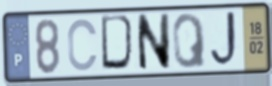8: (33, 17, 62, 76)
C: (66, 17, 100, 74)
D: (99, 13, 138, 74)
J: (209, 9, 242, 70)
N: (134, 11, 172, 74)
Q: (171, 12, 209, 71)
